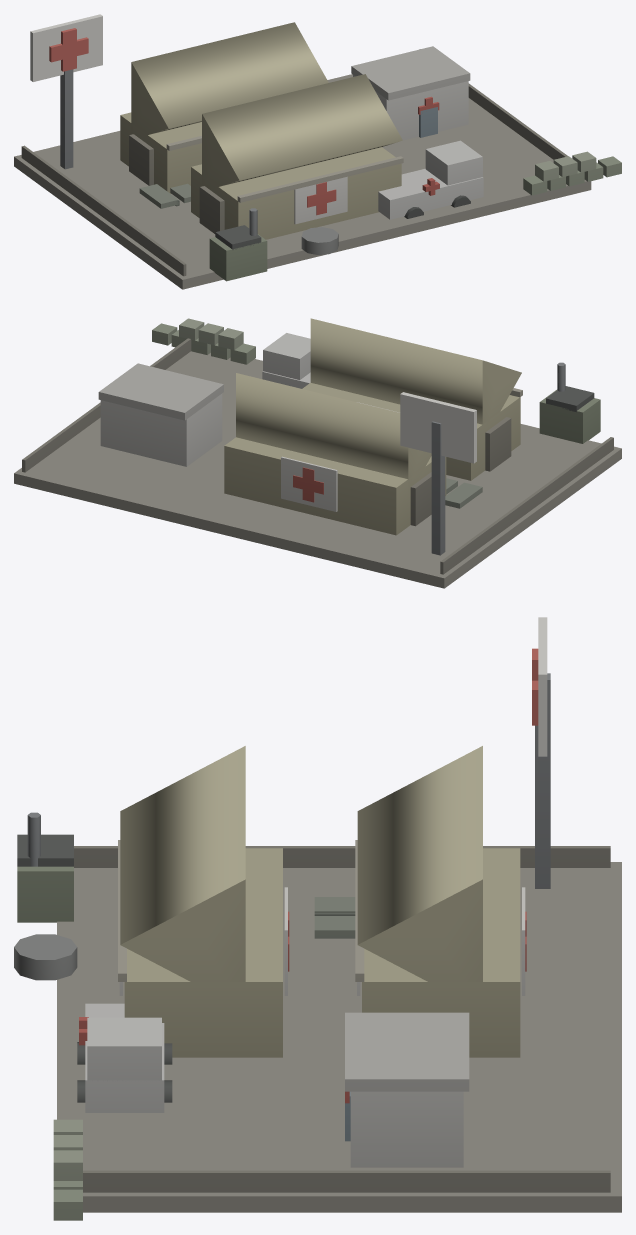
The model's file is m_techb_hosp_0e0e55f8.glb.
3 views of the same model, one above another, from view 1: azimuth 30°, elevation 25°; view 2: azimuth 150°, elevation 25°; view 3: azimuth 270°, elevation 25° (orthographic). The views are drawn at different scales.
Visible parts, largest first — view 1: mesh; view 2: mesh; view 3: mesh.
Part boxes in pixels (box(x1,y1,x2,y2)): mesh: box(14, 14, 621, 289); mesh: box(14, 318, 621, 588); mesh: box(14, 617, 621, 1220).
Size of the model in its own units: 76.1 by 25 by 53.8.
